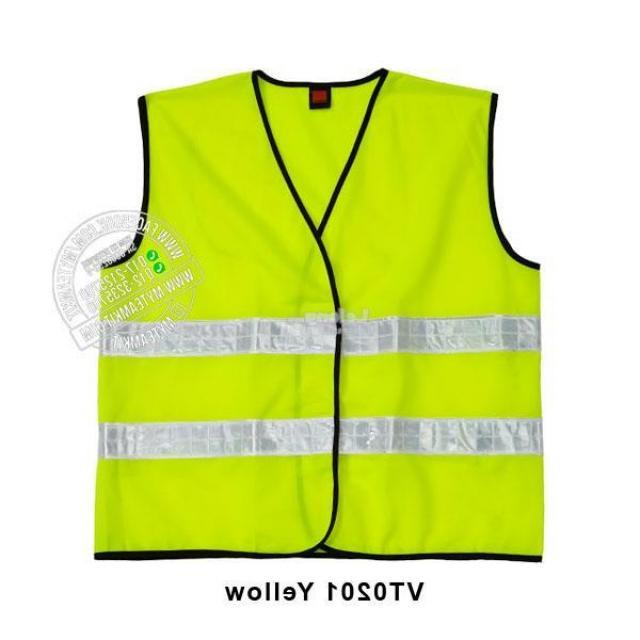reflective_jacket: (82, 45, 578, 575)
